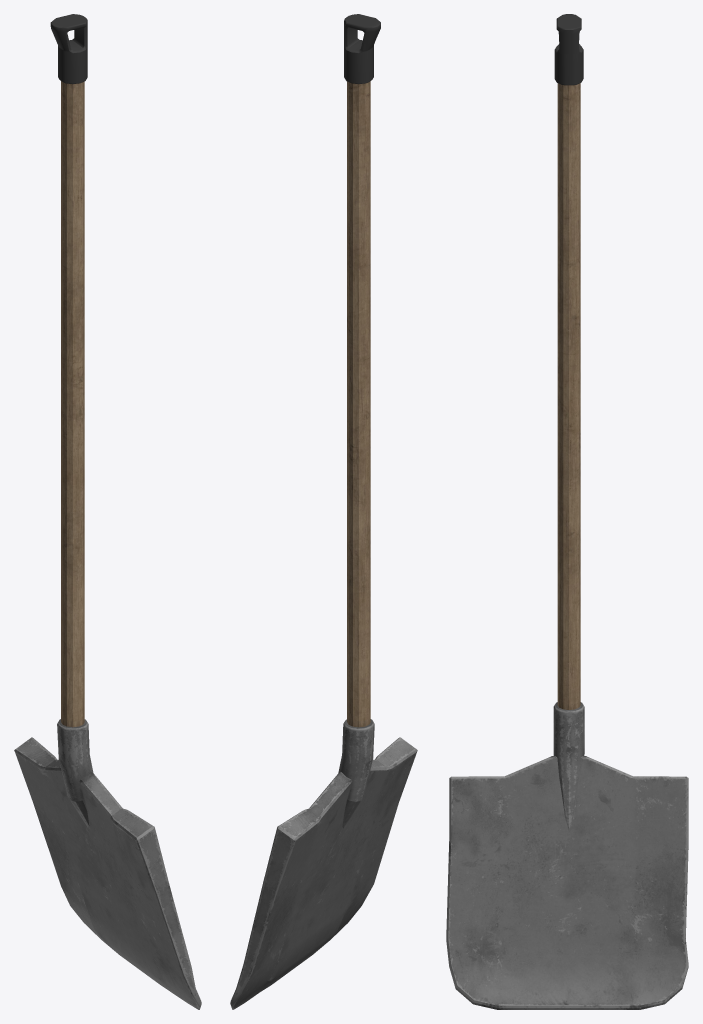
Rendered from Shovel_LP.glb.
3 renders of one model, left to right at view 1: azimuth 30°, elevation 25°; view 2: azimuth 150°, elevation 25°; view 3: azimuth 270°, elevation 25°, orthographic. The views are drawn at different scales.
Parts seen in each view (by area): view 1: Shovel_LP; view 2: Shovel_LP; view 3: Shovel_LP.
Boxes of the visible parts, x1,y1,x2,y2 form: Shovel_LP: (14,14,201,1009); Shovel_LP: (230,14,417,1009); Shovel_LP: (446,14,688,1009).
Size of the model in its own units: 0.1988 by 1.82 by 0.4224.
1 material, 1 textured.
